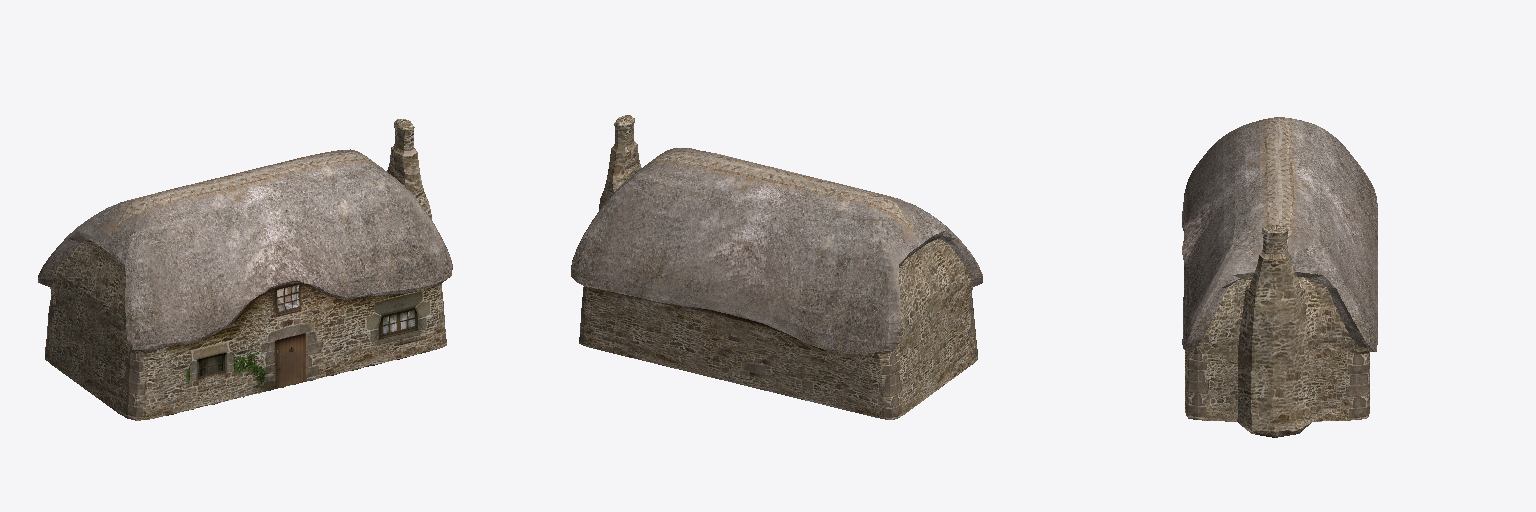
The picture shows the model from 3 angles: view 1: azimuth 30°, elevation 25°; view 2: azimuth 150°, elevation 25°; view 3: azimuth 270°, elevation 25°; orthographic projection.
Visible parts, largest first — view 1: _; view 2: _; view 3: _.
Boxes of the visible parts, box(x1,y1,x2,y2) form: _: box(38, 119, 452, 420); _: box(571, 115, 982, 419); _: box(1182, 117, 1377, 437).
Size of the model in its own units: 520 by 286 by 254.
Materials: 1 (1 with a texture image).